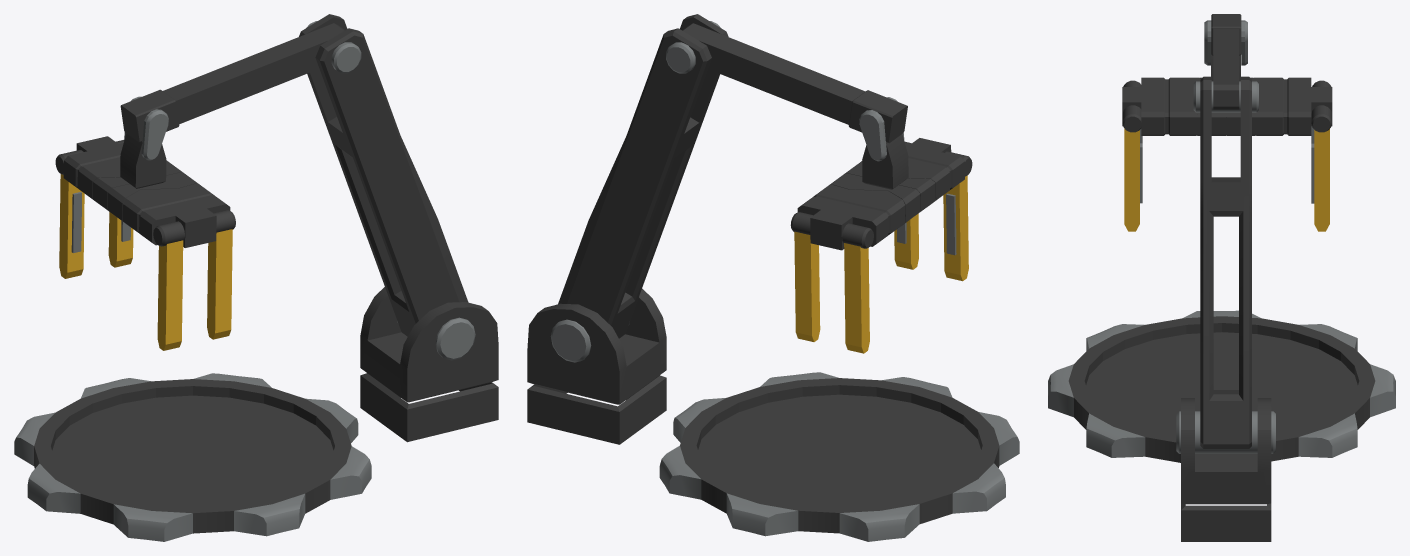
File: Crane Pieces.fbx
3 renders of one model, left to right at view 1: azimuth 30°, elevation 25°; view 2: azimuth 150°, elevation 25°; view 3: azimuth 270°, elevation 25°, orthographic. The views are drawn at different scales.
Parts seen in each view (by area): view 1: Crane, Crane_Pad; view 2: Crane, Crane_Pad; view 3: Crane, Crane_Pad.
Part boxes in pixels (x1,y1,x2,y2): Crane: (55,14,498,442); Crane_Pad: (14,373,371,541); Crane: (527,14,972,444); Crane_Pad: (659,372,1019,541); Crane: (1122,14,1332,541); Crane_Pad: (1048,310,1395,462).
Bounding box in the file's own units: 3.91 × 3.5 × 2.77.
